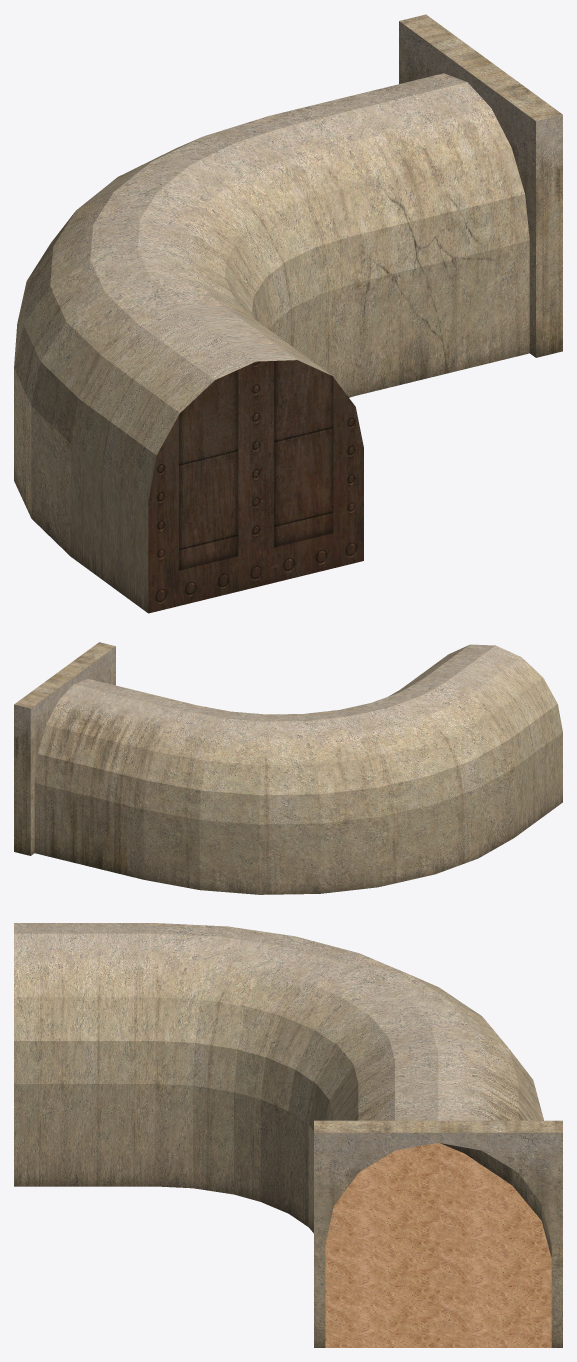
The model's file is thm_tato_jabbas_palace_r29_bibspawn_mesh_r29.fbx.
3 renders of one model, top to bottom at view 1: azimuth 30°, elevation 25°; view 2: azimuth 150°, elevation 25°; view 3: azimuth 270°, elevation 25°, orthographic. The views are drawn at different scales.
Visible parts, largest first — view 1: mesh_node; view 2: mesh_node; view 3: mesh_node.
Part boxes in pixels (bbox=[...]): mesh_node: bbox=[14, 14, 562, 613]; mesh_node: bbox=[14, 642, 562, 894]; mesh_node: bbox=[14, 923, 562, 1347].
Bounding box in the file's own units: 10.75 × 4.2 × 9.7.
